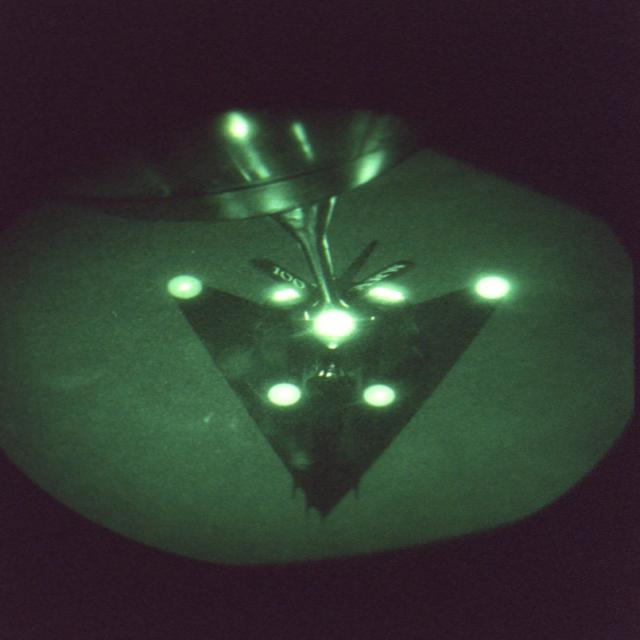MIL_Plane: (168, 238, 502, 526)
